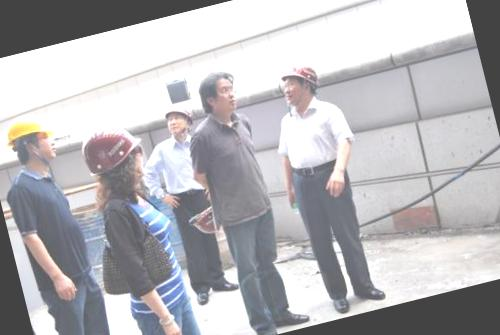no_helmet: (195, 62, 246, 123)
